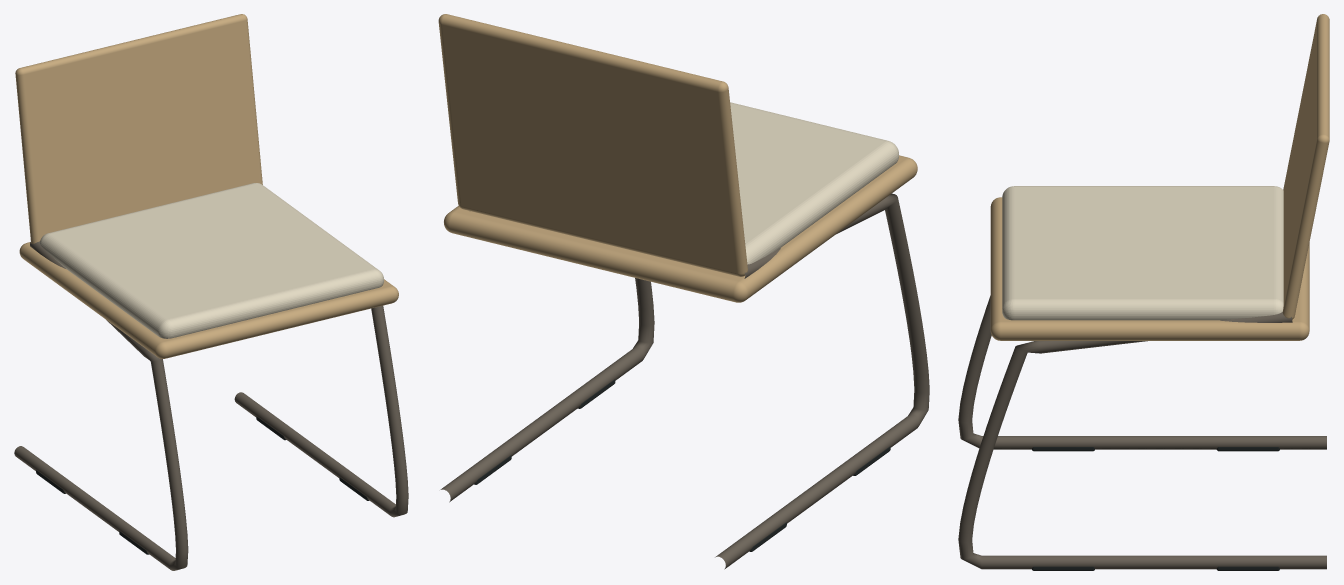
File: atelier-sidechair-ivory.glb
3 renders of one model, left to right at view 1: azimuth 30°, elevation 25°; view 2: azimuth 150°, elevation 25°; view 3: azimuth 270°, elevation 25°, orthographic. The views are drawn at different scales.
Parts seen in each view (by area): view 1: mesh_9, mesh_8, mesh_7, mesh_0, mesh_3; view 2: mesh_9, mesh_8, mesh_7, mesh_0, mesh_3; view 3: mesh_8, mesh_3, mesh_7, mesh_9, mesh_0.
Boxes of the visible parts, x1=… form: mesh_9: x1=15, y1=14, x2=262, y2=243; mesh_8: x1=39, y1=183, x2=383, y2=338; mesh_7: x1=19, y1=242, x2=398, y2=358; mesh_0: x1=14, y1=241, x2=188, y2=570; mesh_3: x1=234, y1=305, x2=408, y2=517; mesh_9: x1=438, y1=14, x2=747, y2=276; mesh_8: x1=730, y1=102, x2=898, y2=264; mesh_7: x1=444, y1=155, x2=917, y2=302; mesh_0: x1=715, y1=193, x2=929, y2=569; mesh_3: x1=440, y1=278, x2=654, y2=502; mesh_8: x1=1002, y1=186, x2=1283, y2=320; mesh_3: x1=958, y1=312, x2=1326, y2=569; mesh_7: x1=990, y1=197, x2=1309, y2=340; mesh_9: x1=1282, y1=14, x2=1329, y2=319; mesh_0: x1=958, y1=295, x2=1326, y2=449.
Size of the model in its own units: 0.5076 by 0.7797 by 0.6039.
